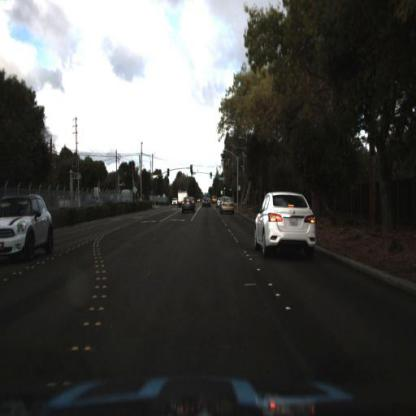car: (248, 186, 321, 272), (1, 194, 58, 269), (179, 195, 198, 218), (219, 195, 236, 213), (201, 195, 215, 211)
truck: (177, 188, 190, 206)
